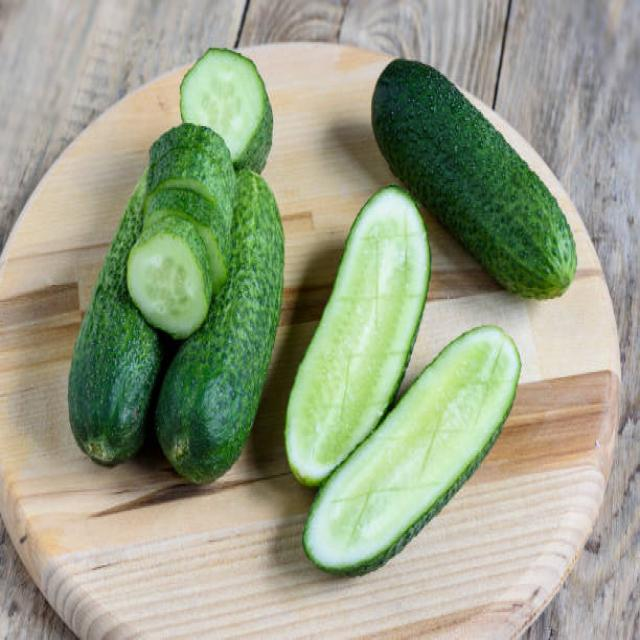cucumber: (68, 115, 286, 484), (372, 54, 577, 303)
